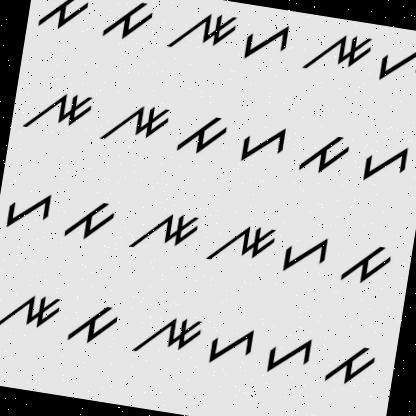ha: (0, 181, 55, 242), (232, 115, 292, 170), (240, 16, 298, 71), (262, 326, 317, 383), (278, 228, 336, 279), (356, 138, 412, 190), (204, 320, 258, 372), (373, 37, 416, 93)
mba: (332, 234, 396, 296), (64, 291, 124, 356), (56, 192, 120, 250), (295, 126, 357, 184), (174, 106, 233, 166), (93, 0, 163, 50), (318, 339, 378, 393), (31, 0, 92, 44)
nda: (122, 197, 202, 264), (298, 21, 376, 89), (204, 210, 282, 276), (19, 81, 98, 146), (96, 92, 174, 152), (164, 0, 239, 61), (129, 306, 205, 366), (0, 278, 63, 349)
